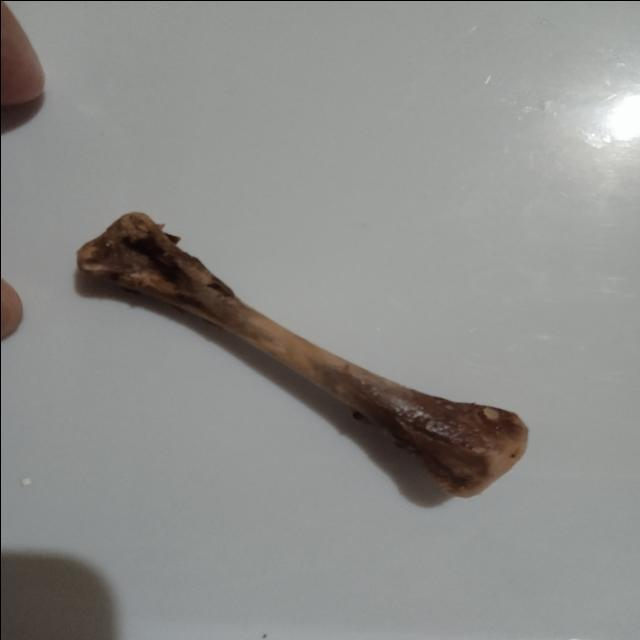bone: (64, 198, 542, 506)
